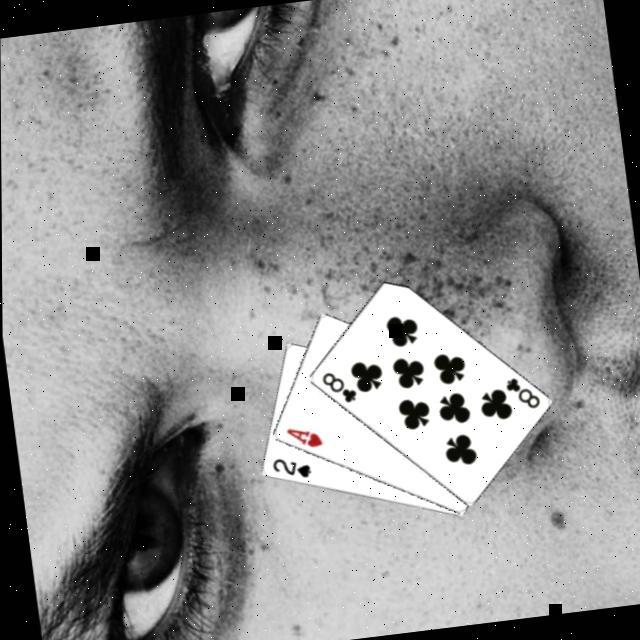2S: (267, 452, 313, 485)
8C: (316, 367, 358, 409), (500, 372, 542, 414)
AH: (280, 422, 324, 454)
